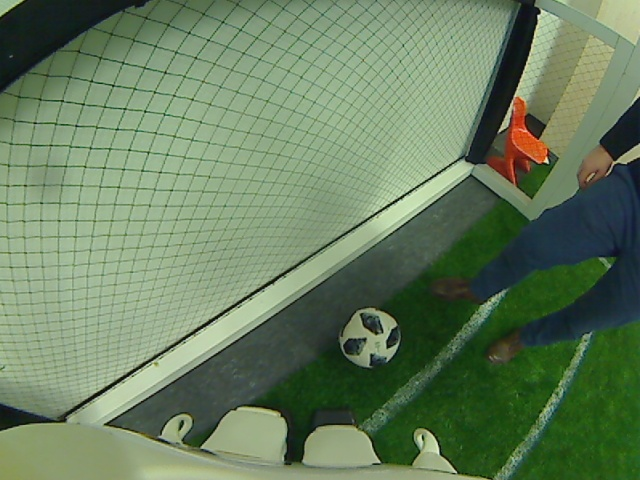ball: (338, 305, 399, 371)
